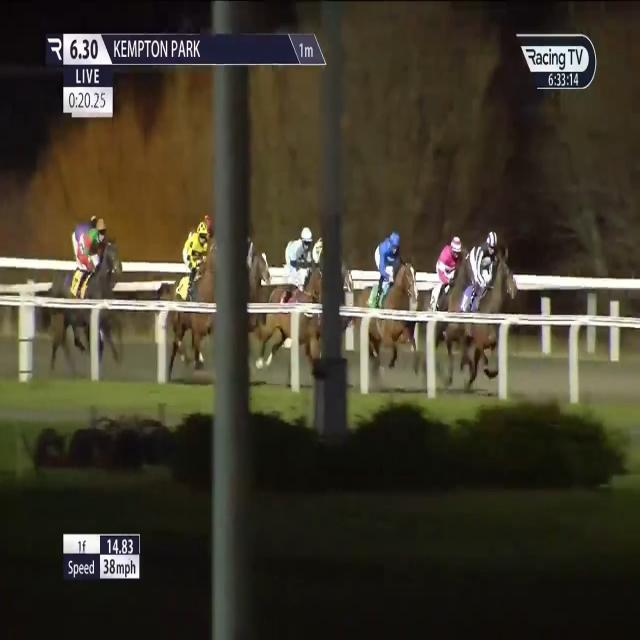horses-racing: (57, 206, 137, 373), (407, 237, 470, 359), (281, 222, 335, 363), (160, 224, 209, 341), (356, 219, 408, 329), (460, 225, 513, 309), (267, 220, 317, 294), (54, 207, 98, 266)
